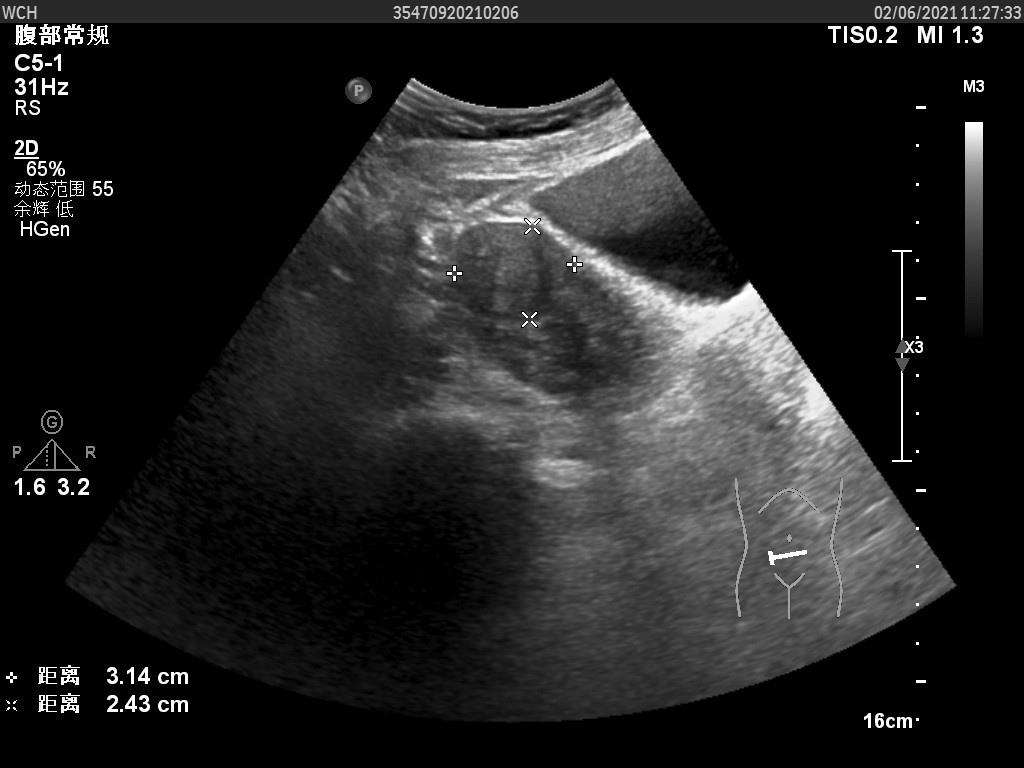肌瘤: (455, 224, 573, 318)
